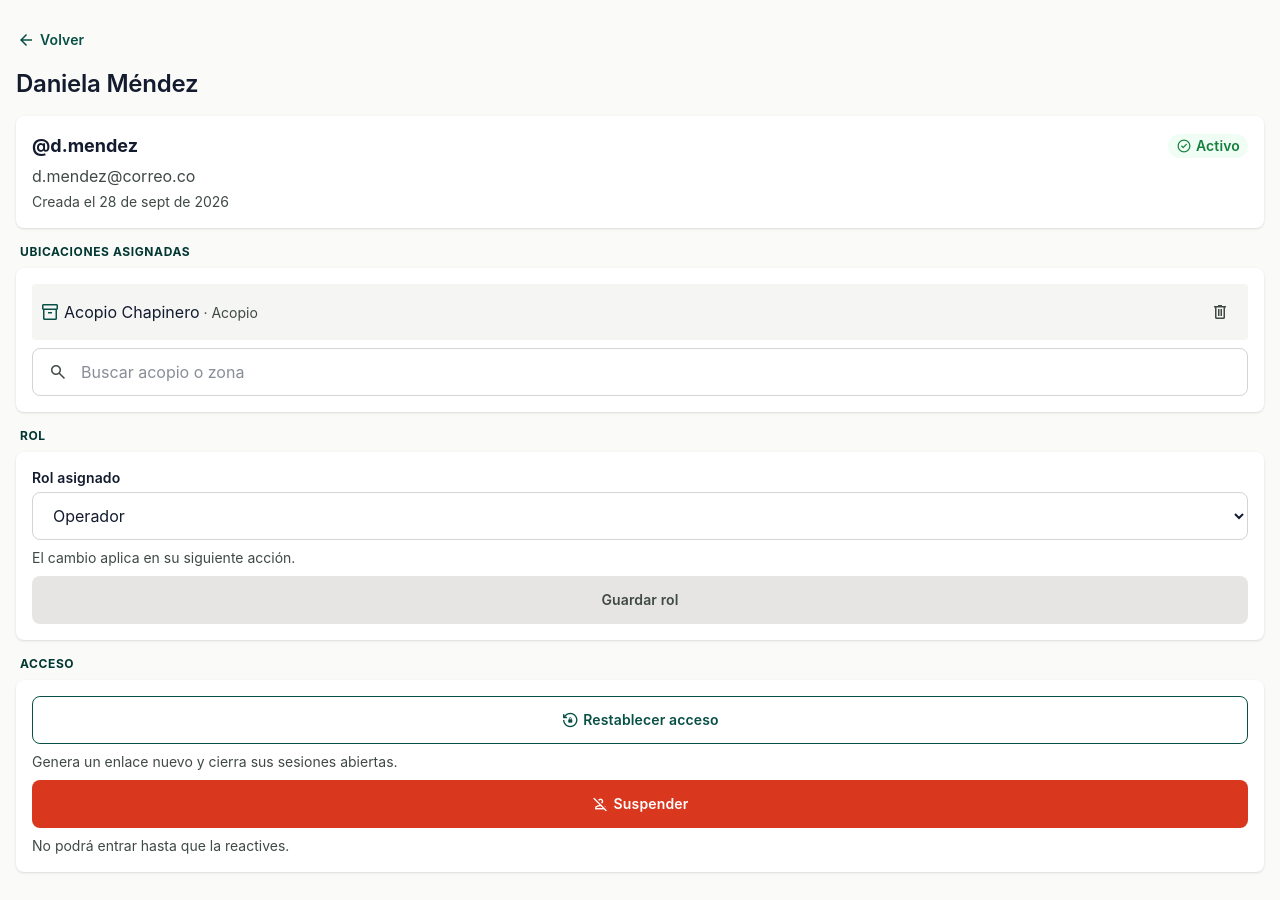
Test: detalle › restablecer pide un motivo de 20 caracteres y entrega el enlace
The width and height of the screenshot is (1280, 900).
Click the button "Restablecer acceso" at (640, 720), box [32, 696, 1248, 744]
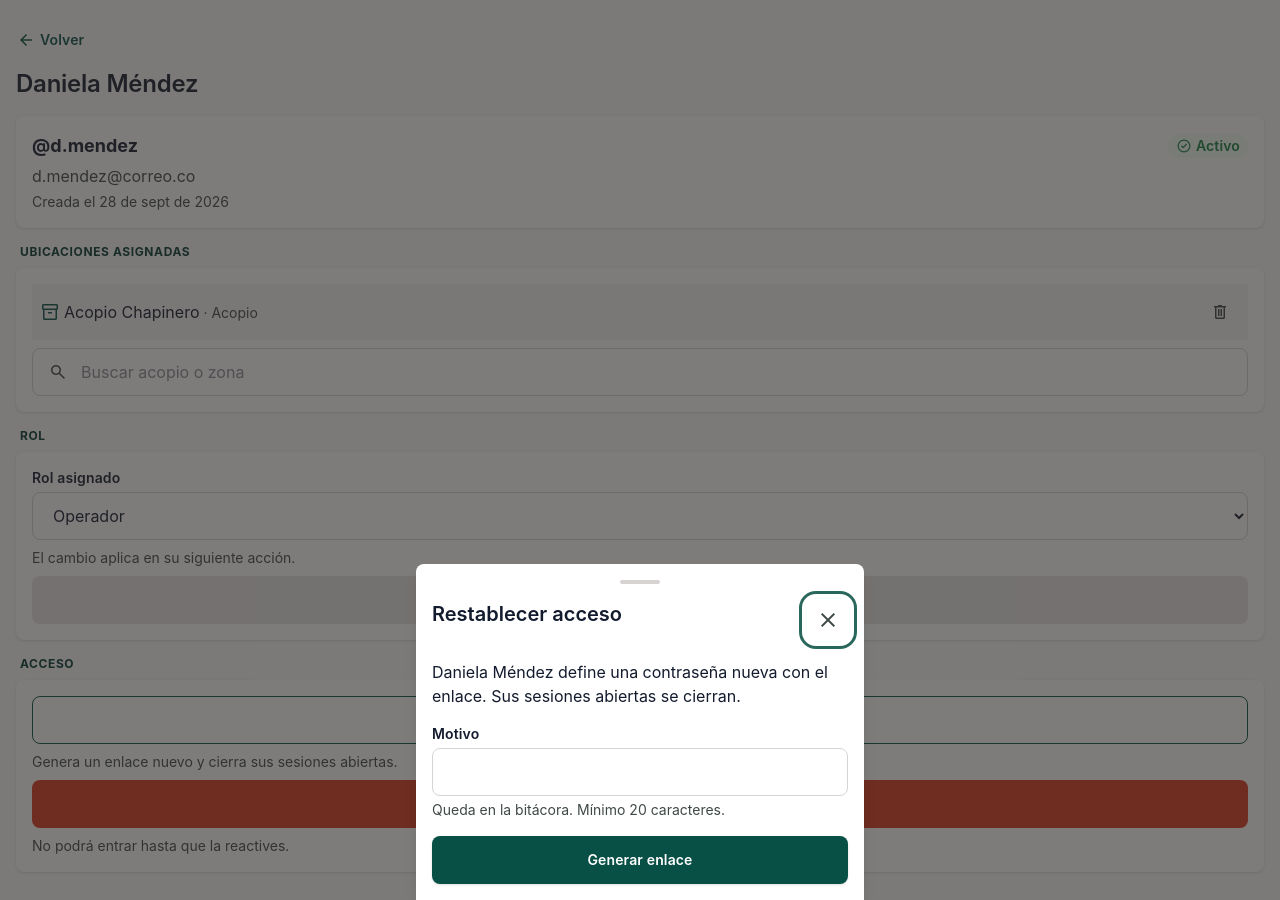
Type "olvidó" into the field labelled "Motivo" at (640, 772), box [432, 748, 848, 796]
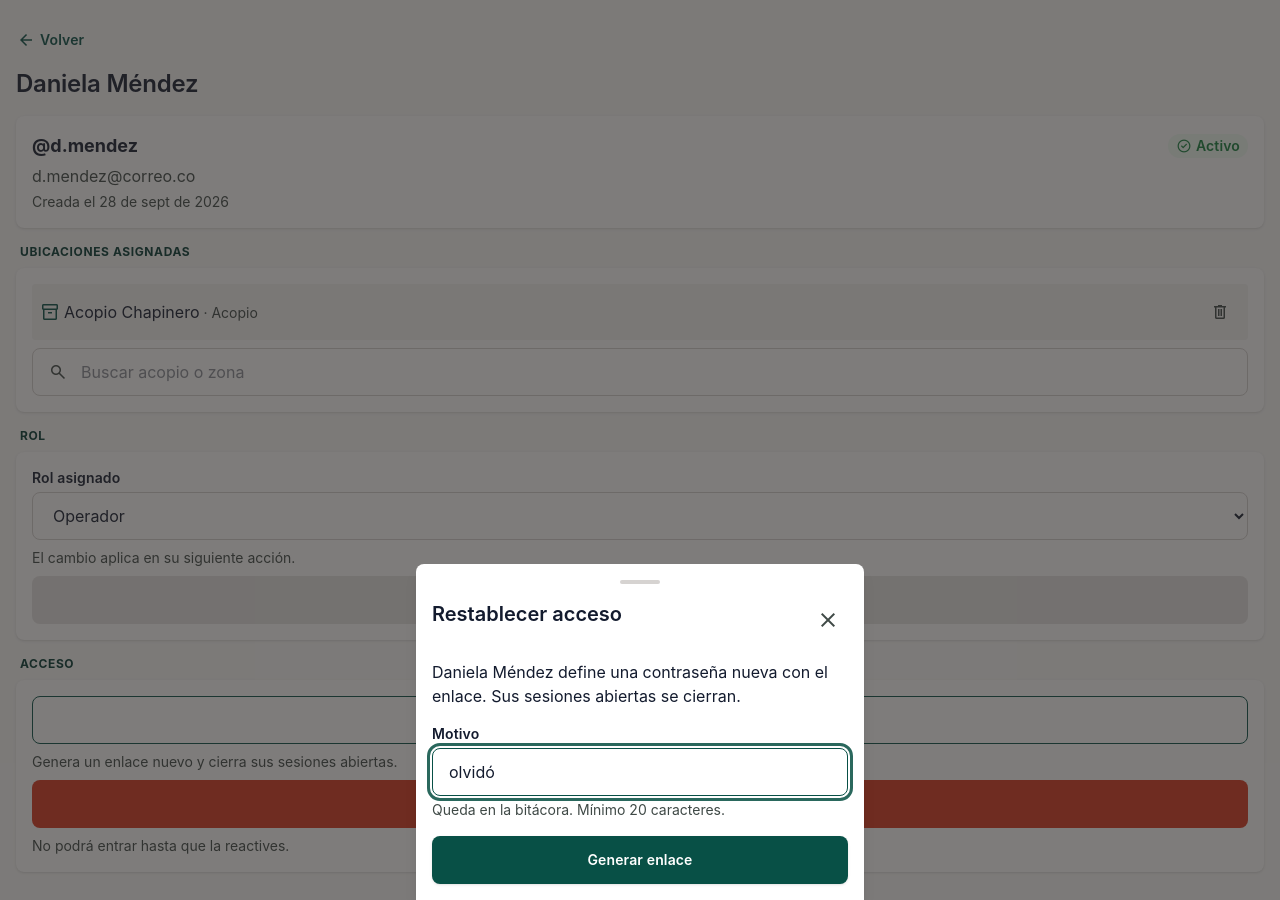
Click the button "Generar enlace" at (640, 860), box [432, 836, 848, 884]
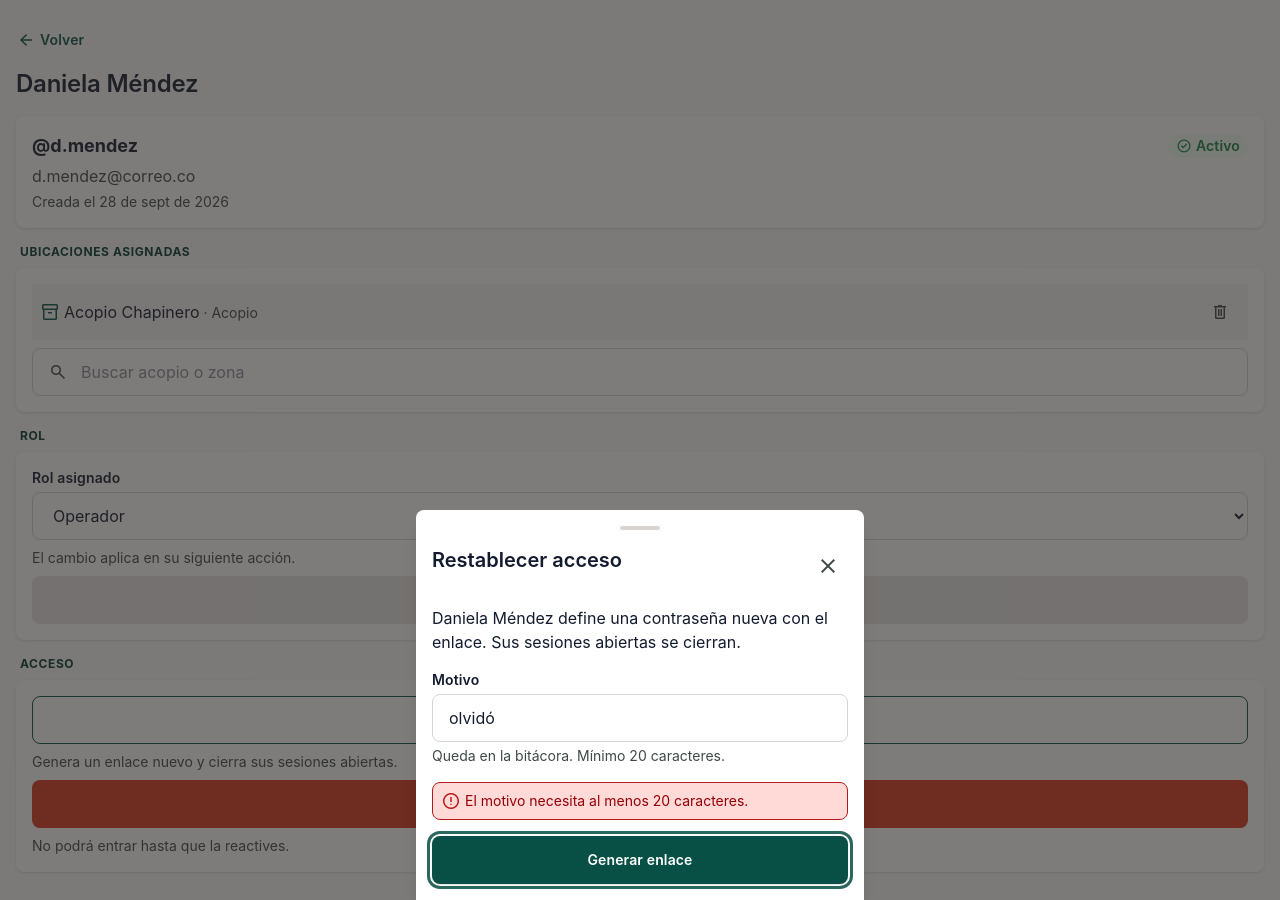
Result: the message shows "al menos 20 caracteres" at [465, 792, 748, 809]
Type " la contraseña del turno" into the field labelled "Motivo" at (640, 718), box [432, 694, 848, 742]
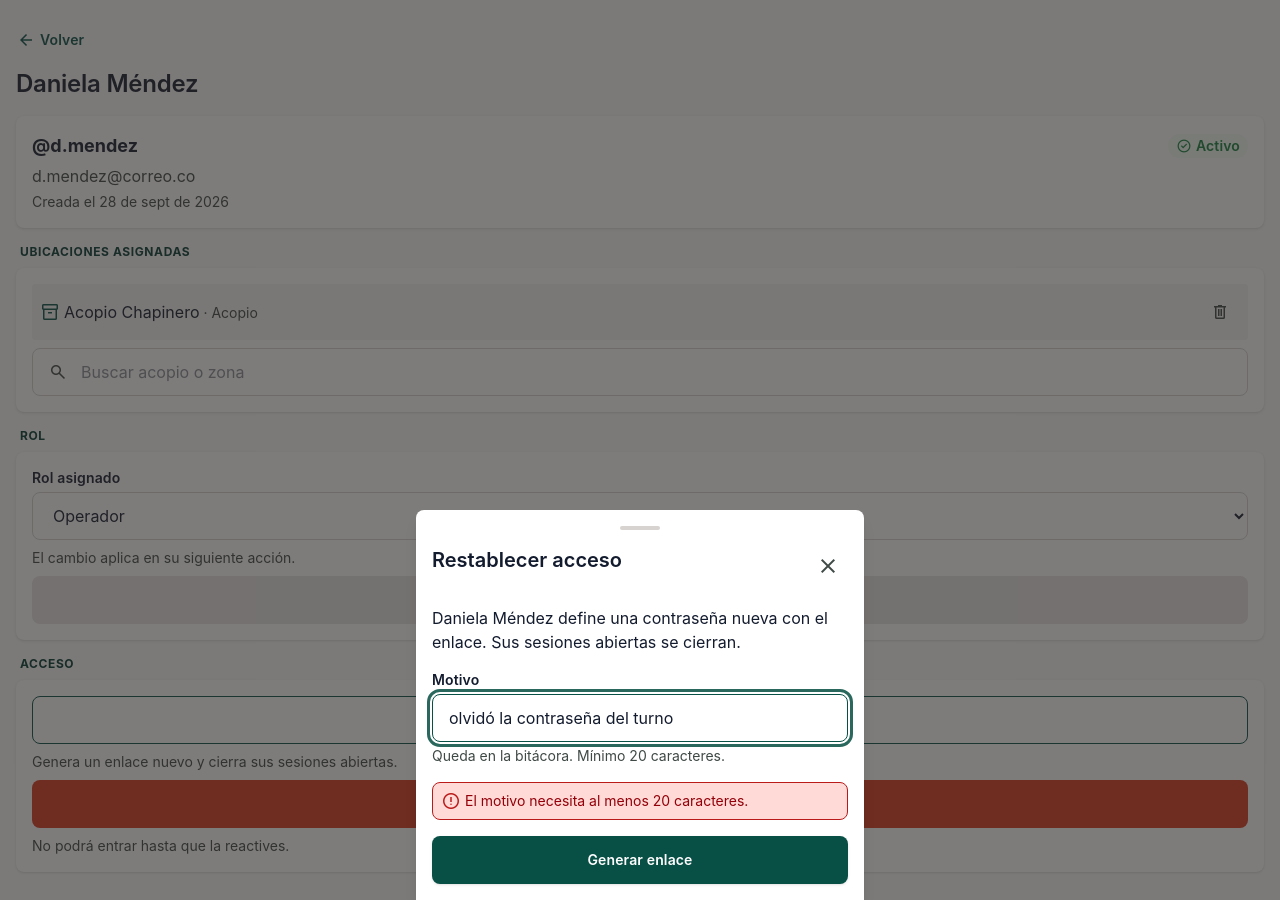
Click the button "Generar enlace" at (640, 860), box [432, 836, 848, 884]
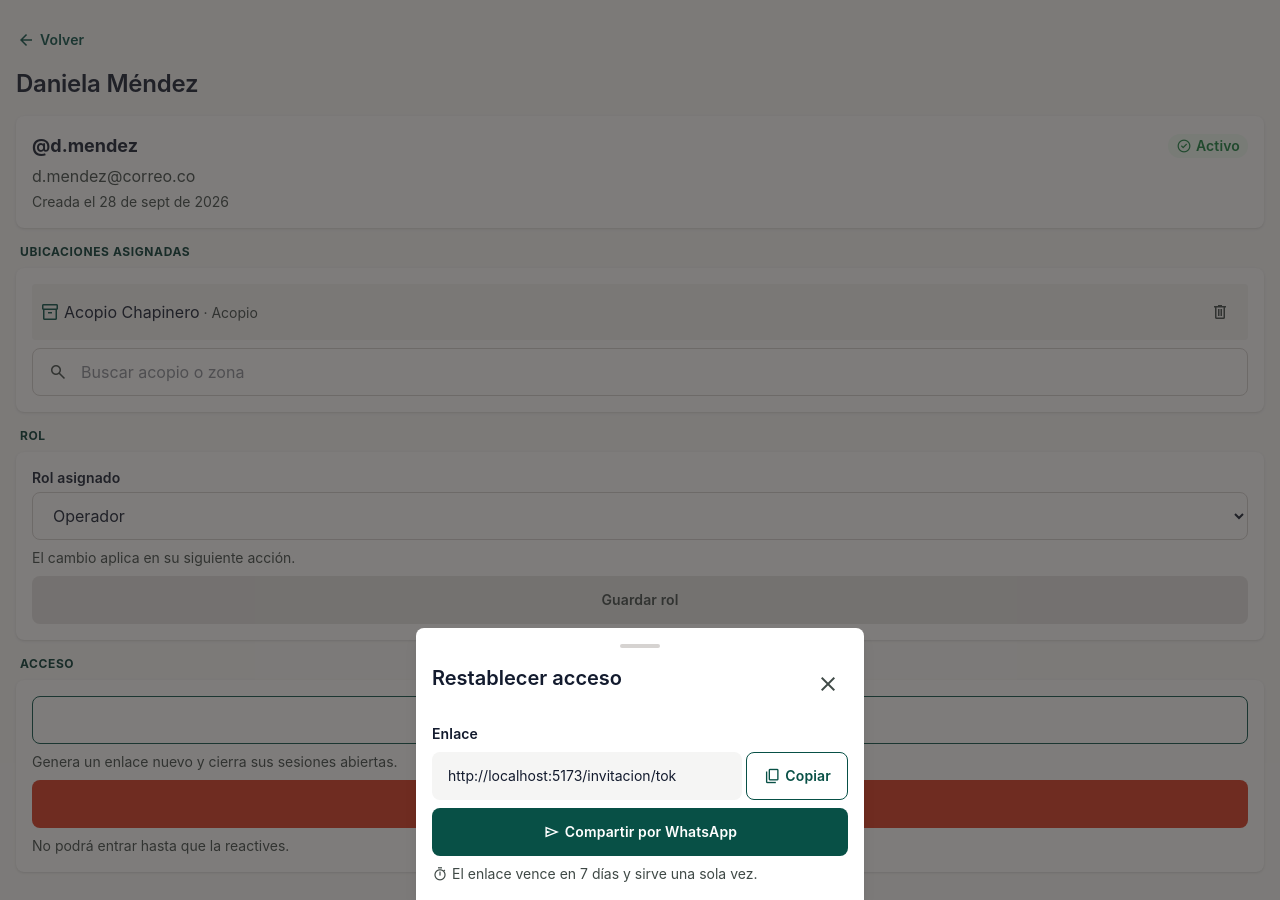
Result: the field showing "http://localhost:5173/invitacion/tok" is shown at [432, 752, 742, 800]
